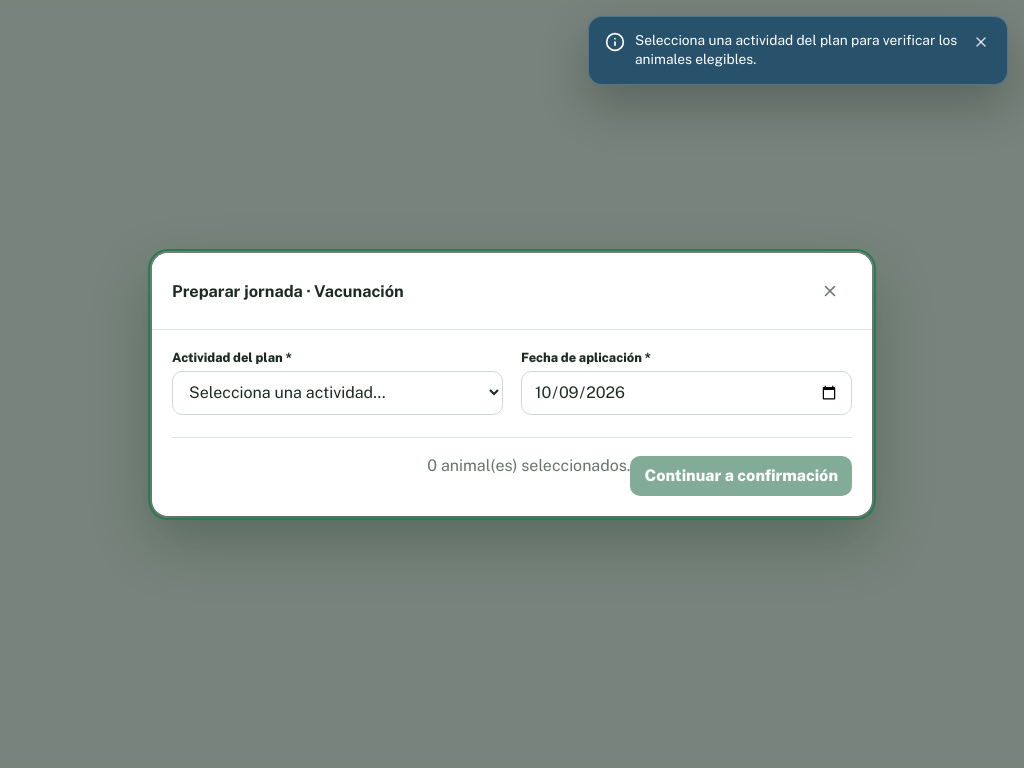
it: JornadaPrepararModal › criterios aplicados automáticamente › muestra todas las categorías elegidas en la actividad, no solo la primera
Select "Vacunación" in the dropdown labelled "Actividad del plan *". click: (338, 392)
box: [173,372,502,413]
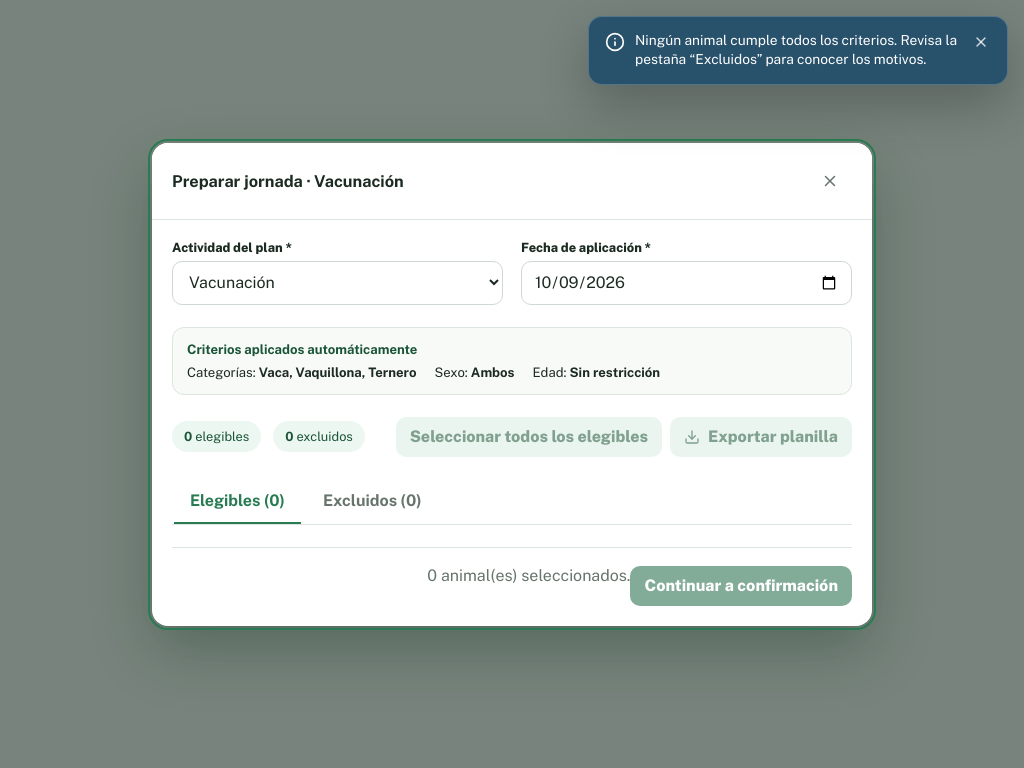
expect the element named "Criterios de elegibilidad" shows "Categorías: Vaca, Vaquillona, Ternero": met, box [172,326,852,394]
